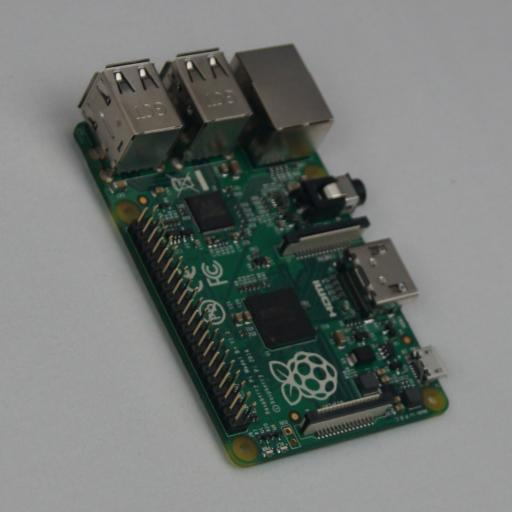Raspberry Pi 1 B-: (68, 44, 449, 468)
